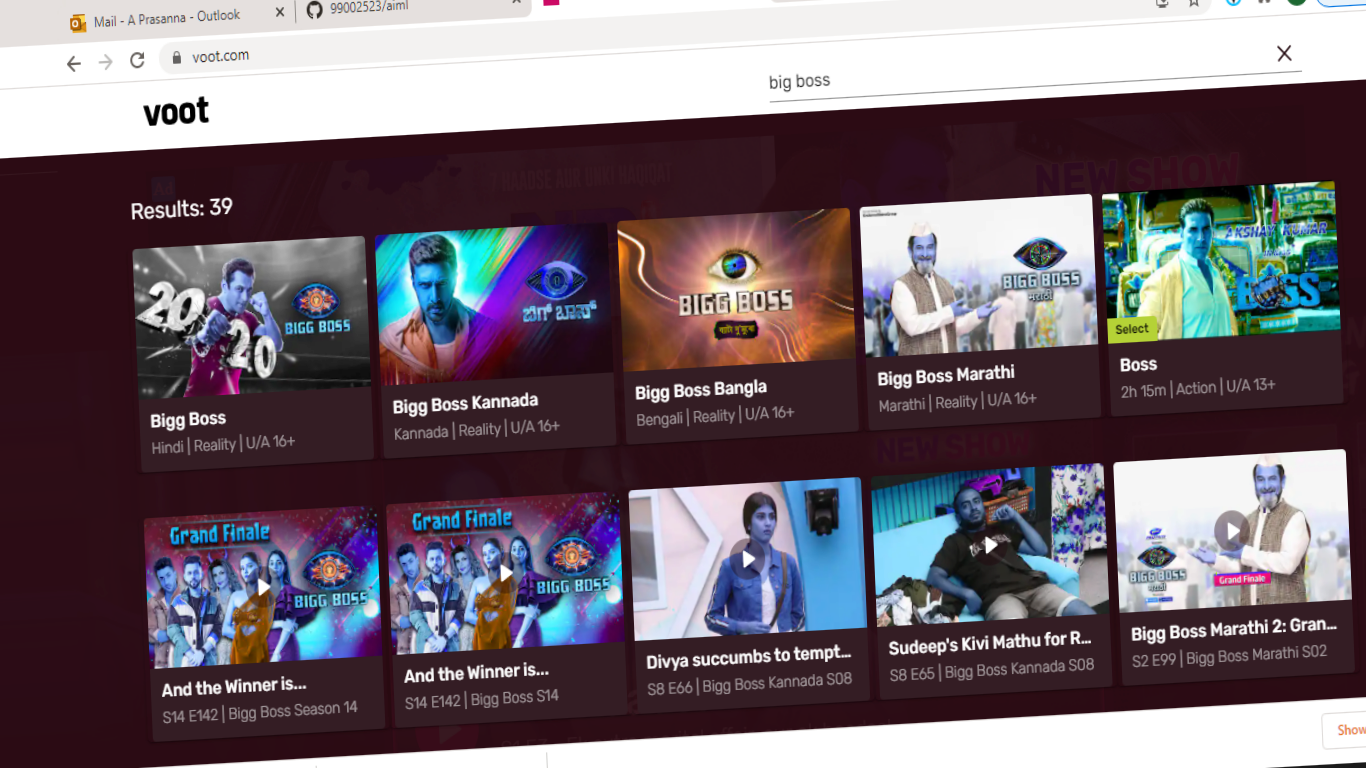resultsfound: (104, 178, 264, 237)
searchtextbox: (766, 31, 1288, 114)
